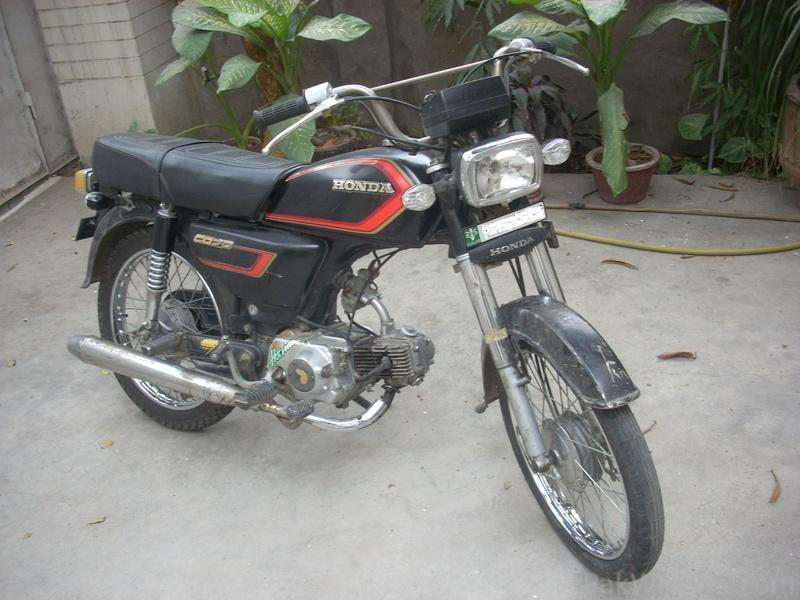bike: (74, 37, 677, 585)
